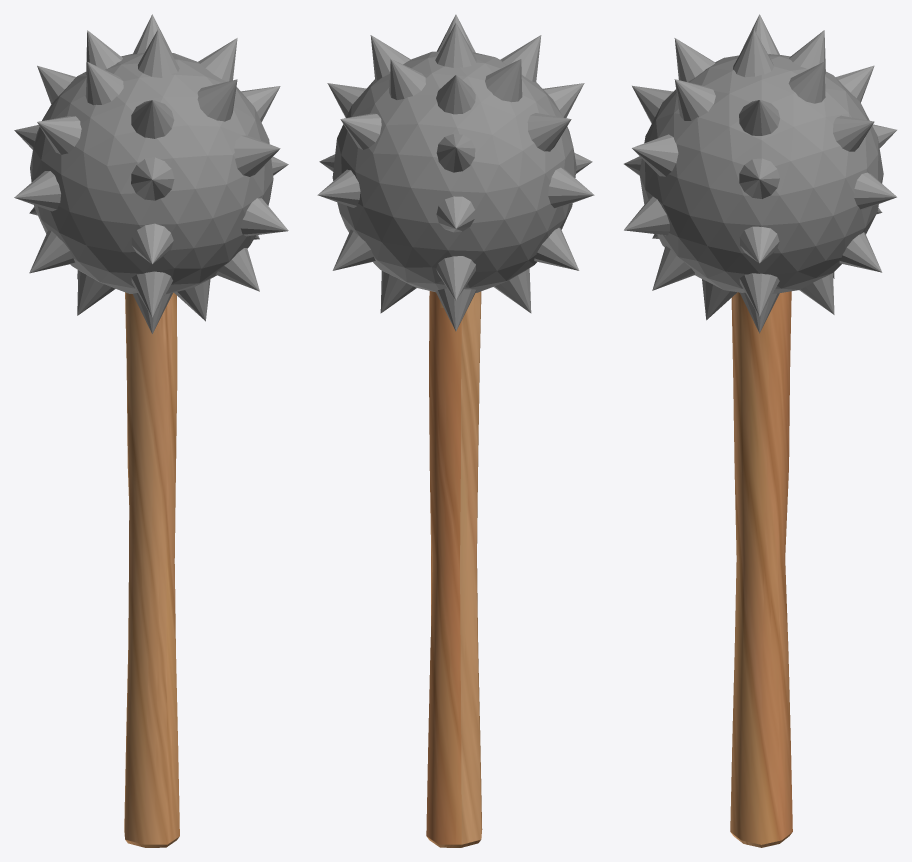
Rendered from Mace.fbx.
3 views of the same model, side by side, from view 1: azimuth 30°, elevation 25°; view 2: azimuth 150°, elevation 25°; view 3: azimuth 270°, elevation 25° (orthographic).
Parts seen in each view (by area): view 1: Cube.001; view 2: Cube.001; view 3: Cube.001.
Part boxes in pixels (x1,y1,x2,y2): Cube.001: (14, 14, 288, 847); Cube.001: (317, 14, 594, 847); Cube.001: (624, 14, 896, 847).
Bounding box in the file's own units: 19.92 × 56.12 × 17.25.
Materials: 3 (1 with a texture image).
